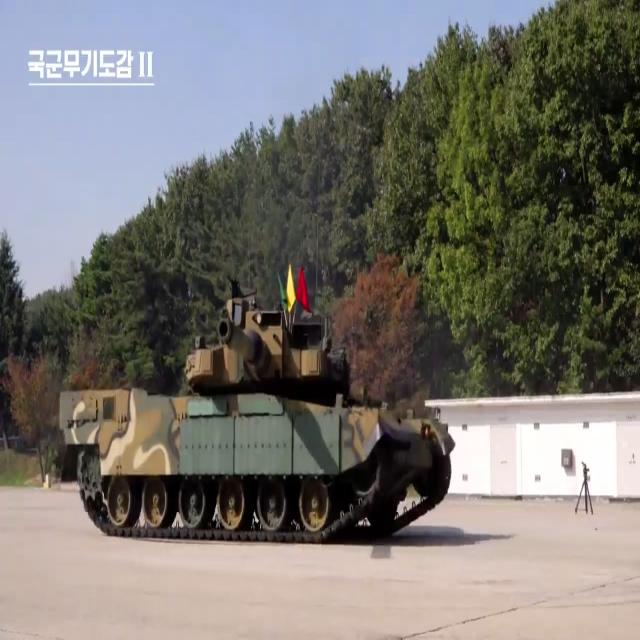korea tank: (56, 268, 458, 540)
